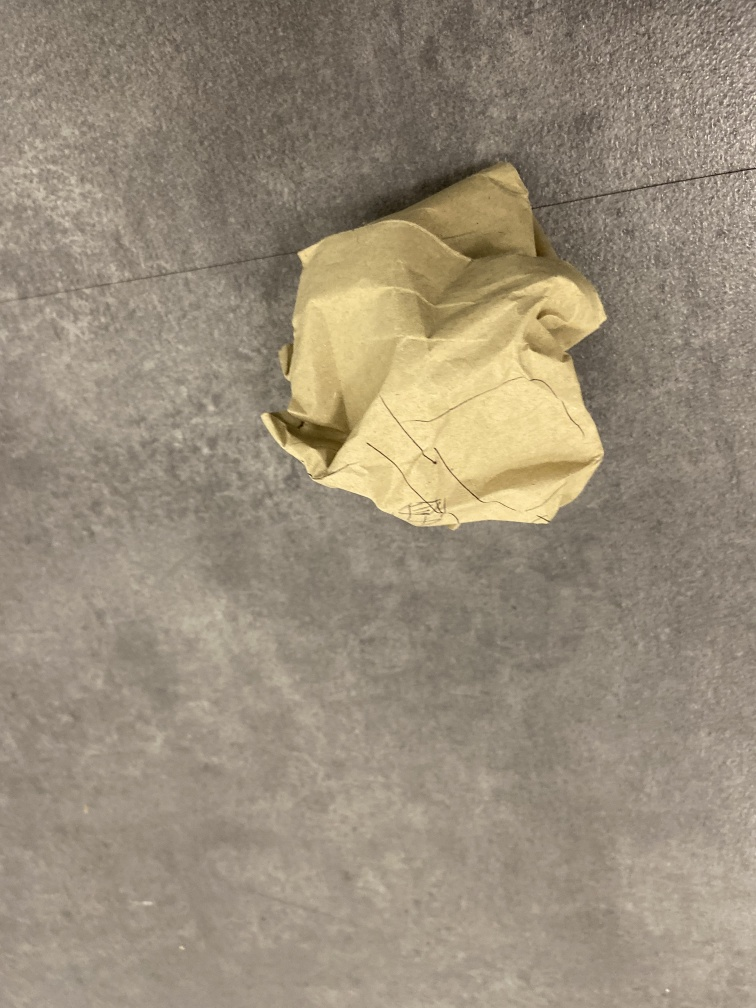paper_brown: (258, 158, 615, 538)
